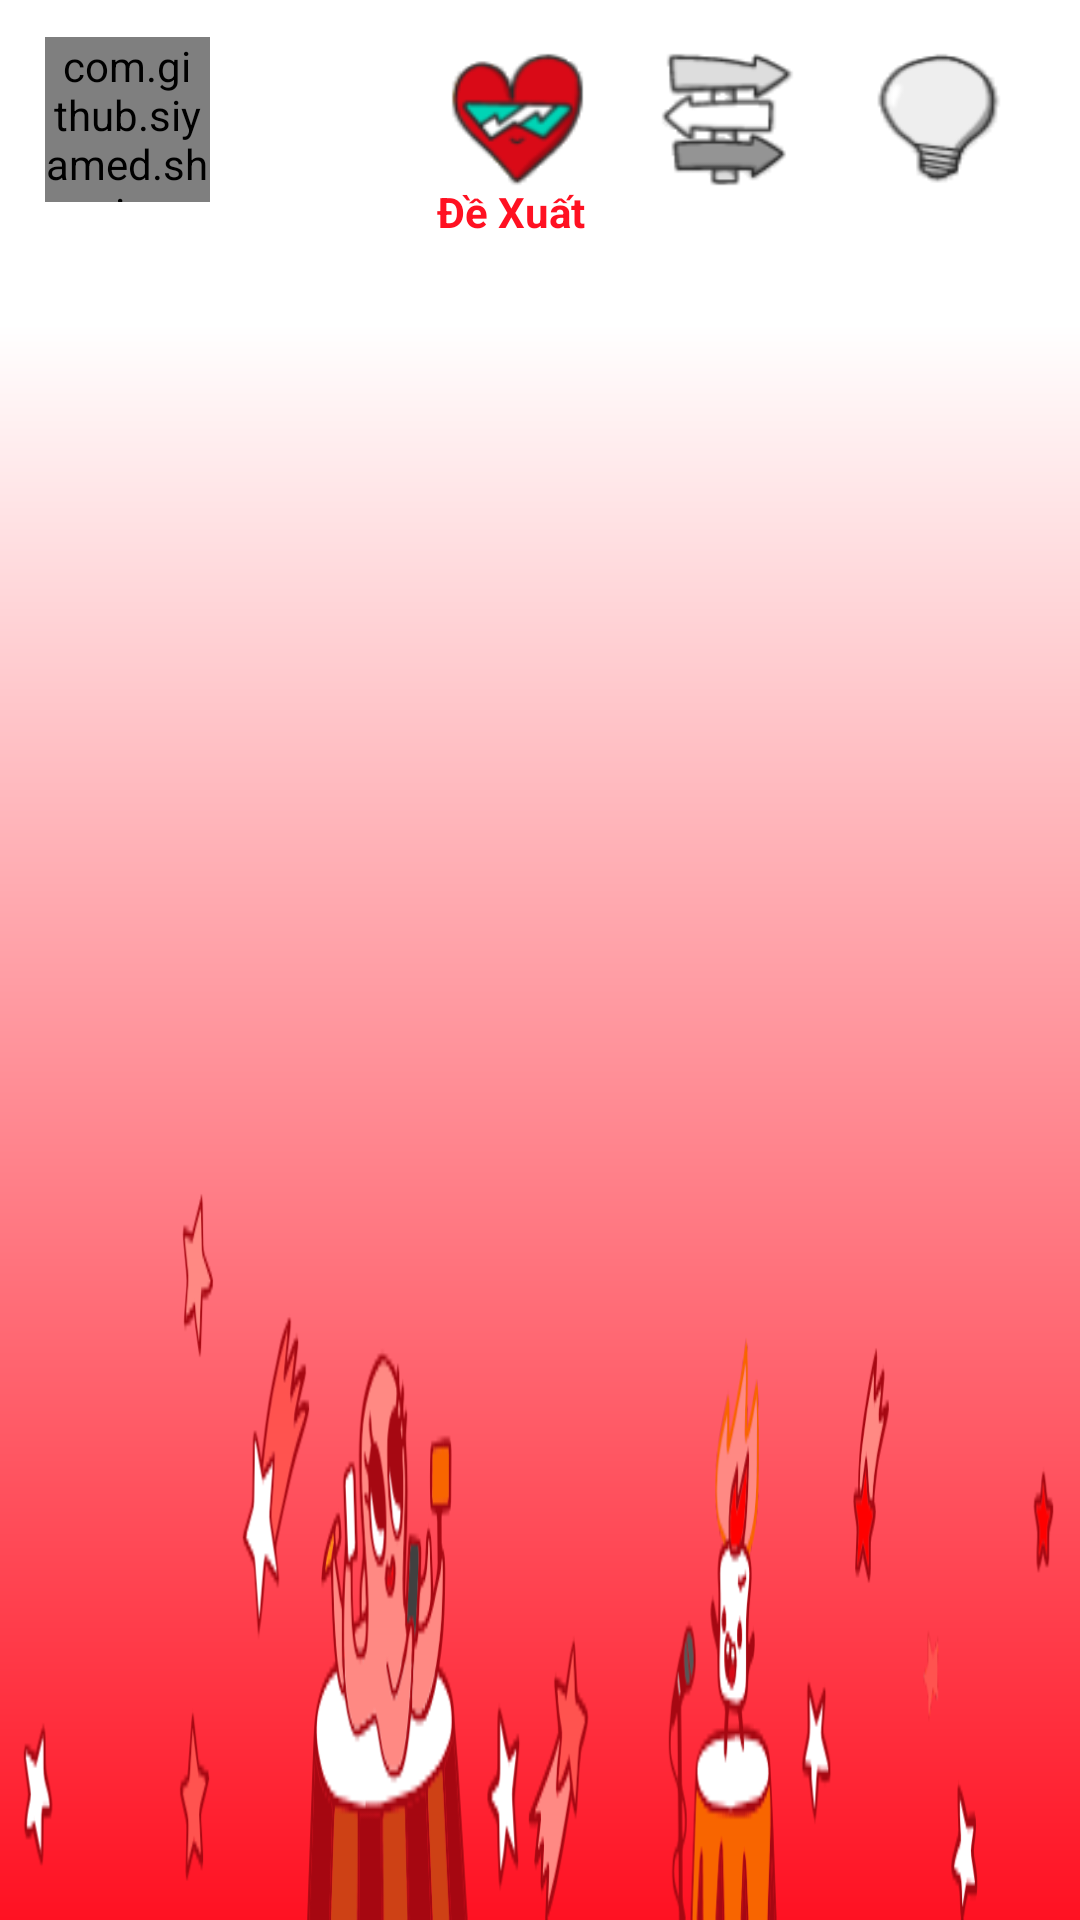

Screen size 1080px x 1920px. Icon name, then its center in pixels as (x=x, y=y):
hexplore: (x=727, y=119)
hlearning: (x=938, y=118)
